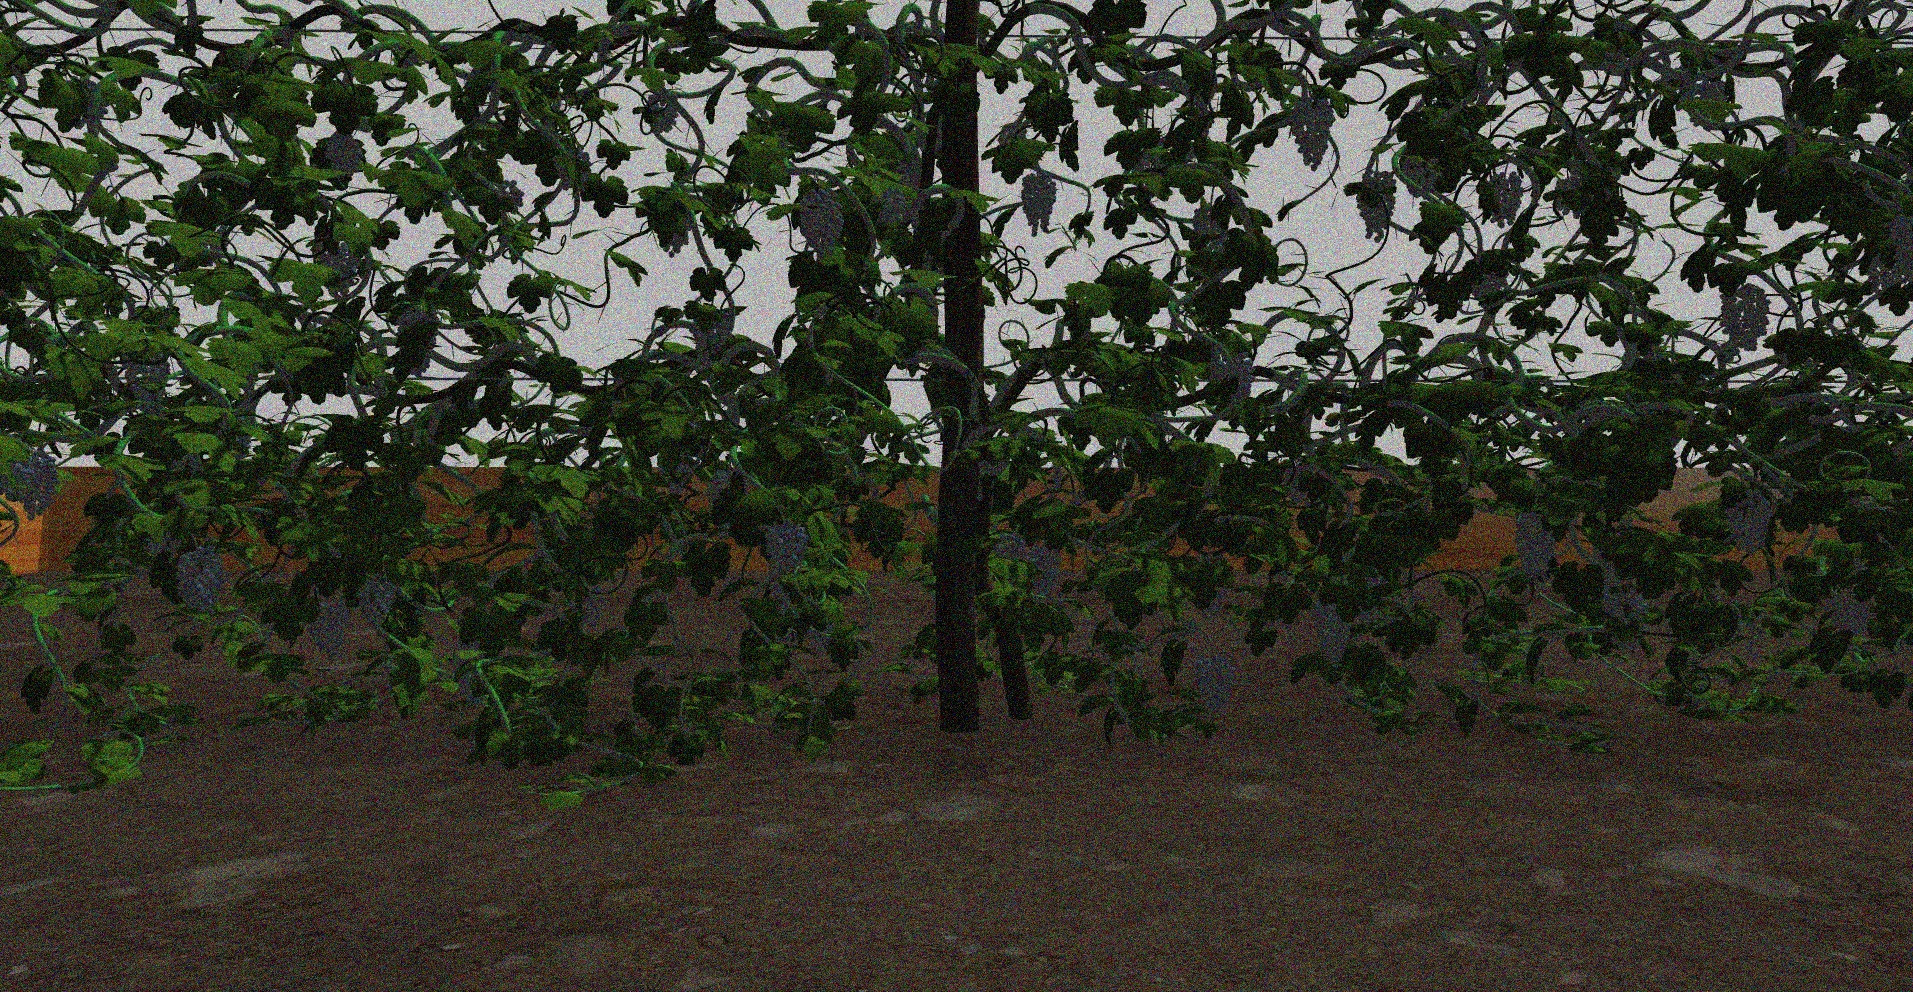grape: (763, 519, 808, 610), (1718, 286, 1774, 353), (175, 545, 228, 612), (1207, 343, 1254, 419), (8, 452, 61, 518), (1291, 95, 1335, 173), (1354, 168, 1398, 244), (1512, 509, 1556, 585), (1724, 485, 1773, 554), (798, 186, 843, 259), (1867, 218, 1909, 292), (1311, 601, 1353, 671), (1603, 590, 1646, 655), (1193, 650, 1234, 717), (305, 598, 350, 657), (1018, 170, 1056, 239), (1821, 585, 1874, 633), (121, 350, 170, 399), (1485, 171, 1525, 226), (358, 574, 397, 626), (567, 578, 604, 628), (1030, 543, 1062, 595), (1399, 156, 1439, 197), (325, 130, 362, 172), (874, 186, 908, 226), (997, 529, 1032, 566), (643, 95, 678, 132)
